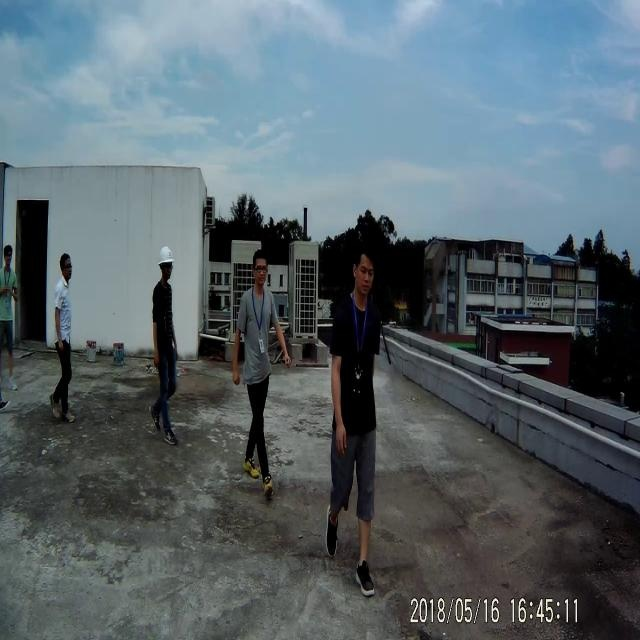Con_Casco: (157, 246, 174, 282)
Sin_Casco_Mascarrilla: (250, 250, 272, 288)
Sin_Chaleco: (235, 289, 277, 391)
